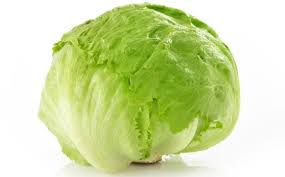lettuce: (46, 2, 239, 168)
